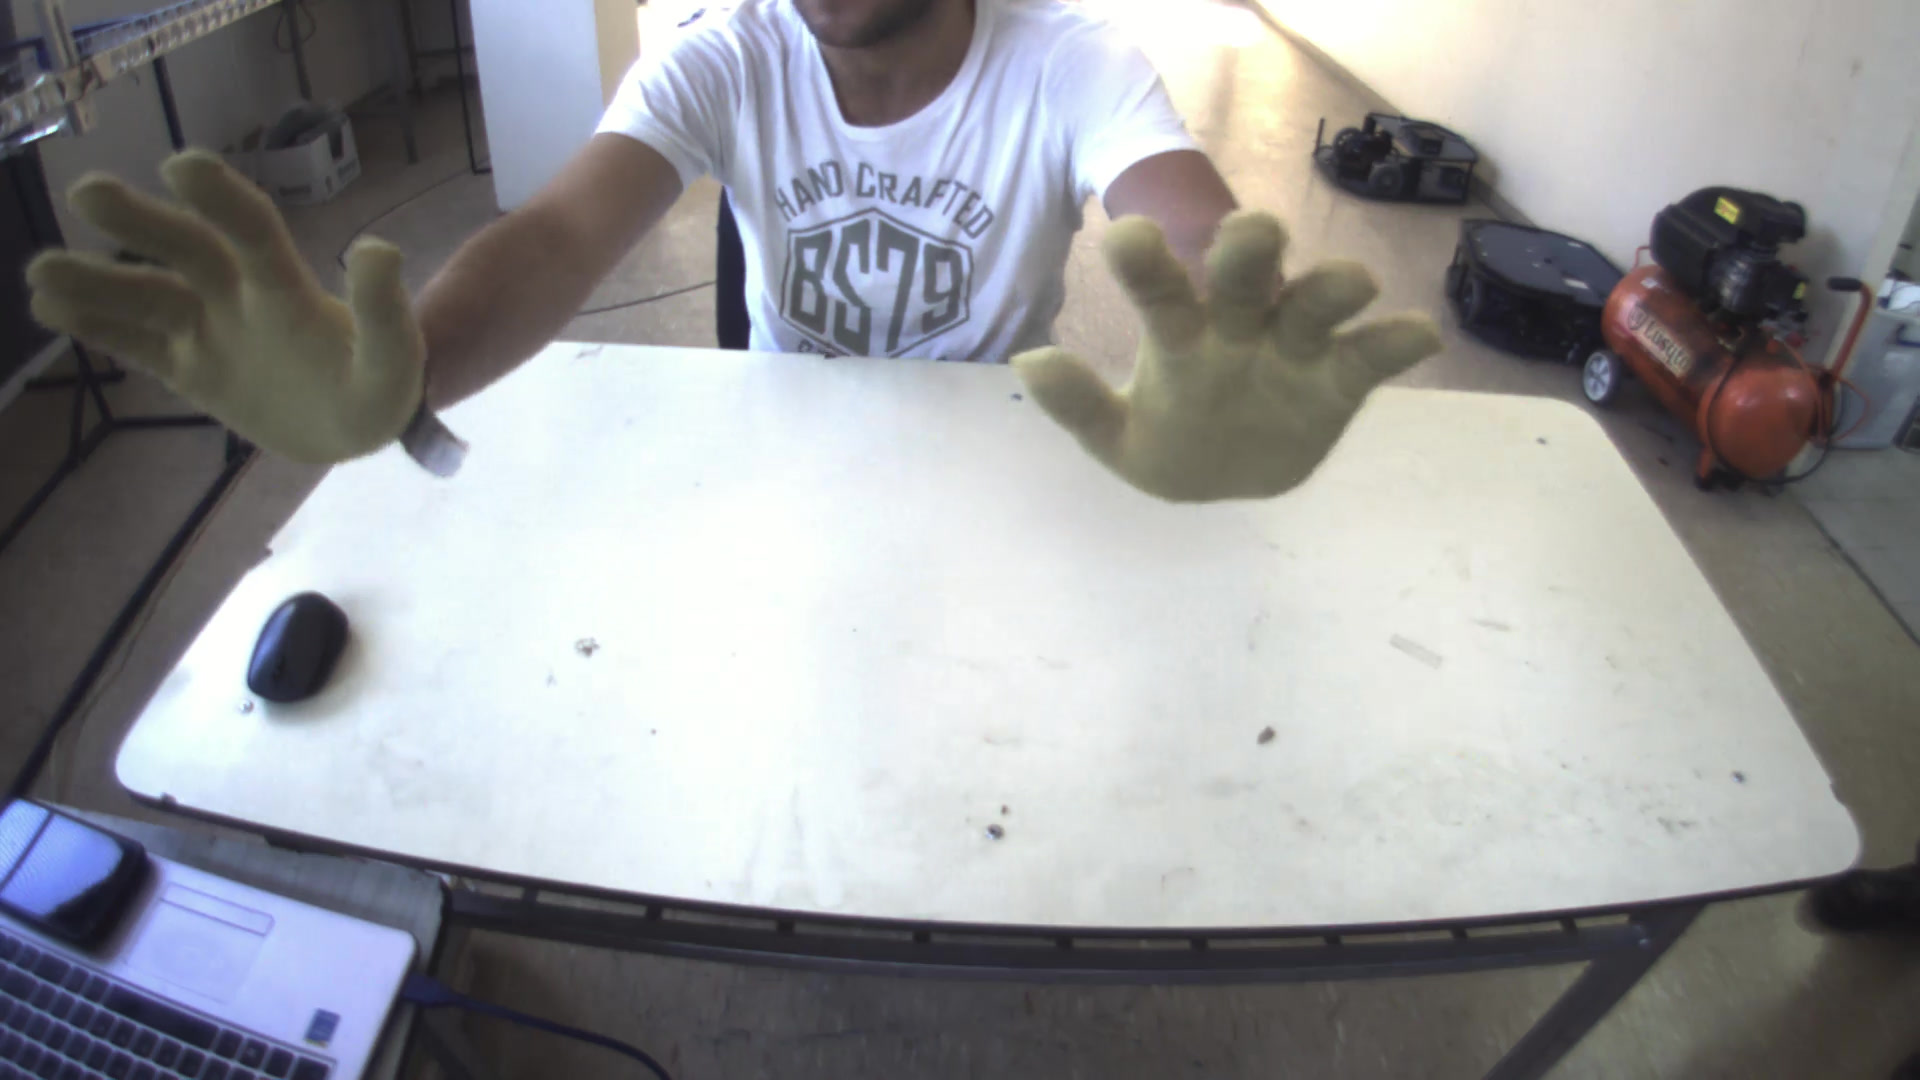hand: (982, 199, 1464, 512), (21, 128, 433, 469)
